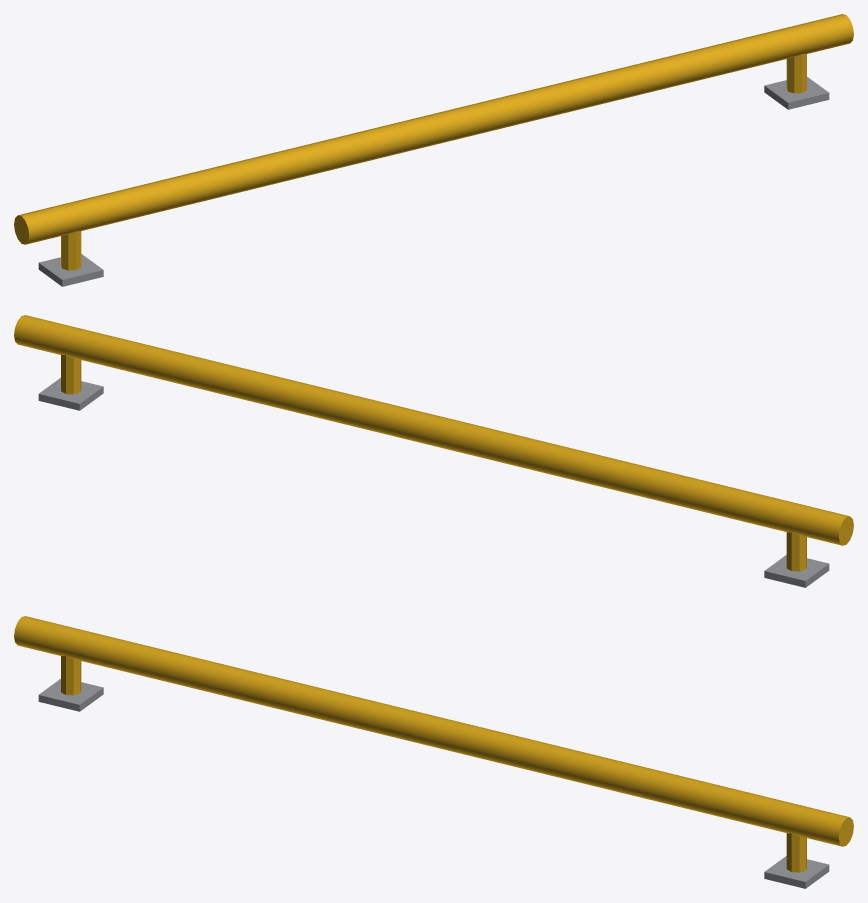
Rendered from SM_Baranda_100.fbx.
3 views of the same model, one above another, from view 1: azimuth 30°, elevation 25°; view 2: azimuth 150°, elevation 25°; view 3: azimuth 330°, elevation 25° (orthographic).
Parts seen in each view (by area): view 1: SM_Baranda_100; view 2: SM_Baranda_100; view 3: SM_Baranda_100.
Boxes of the visible parts, bbox=[...] form: SM_Baranda_100: bbox=[14, 14, 853, 286]; SM_Baranda_100: bbox=[14, 315, 853, 587]; SM_Baranda_100: bbox=[14, 616, 853, 888].
Size of the model in its own units: 1 by 0.08 by 0.05.
